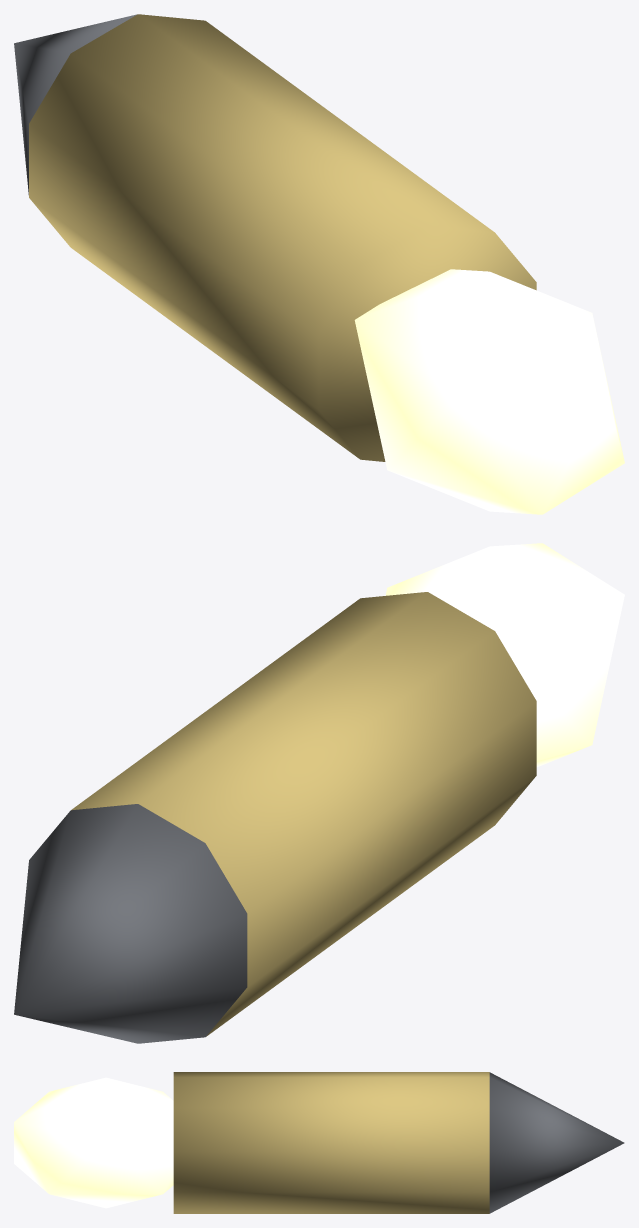
File: shell.gltf
The picture shows the model from 3 angles, top to bottom: view 1: azimuth 30°, elevation 25°; view 2: azimuth 150°, elevation 25°; view 3: azimuth 270°, elevation 25°; orthographic projection. The views are drawn at different scales.
Visible parts, largest first — view 1: shell; view 2: shell; view 3: shell.
Boxes of the visible parts, left/top/right/bottom form: shell: left=14, top=14, right=624, bottom=514; shell: left=14, top=543, right=624, bottom=1043; shell: left=14, top=1072, right=624, bottom=1213.
Bounding box in the file's own units: 0.1522 × 0.16 × 0.6771.
